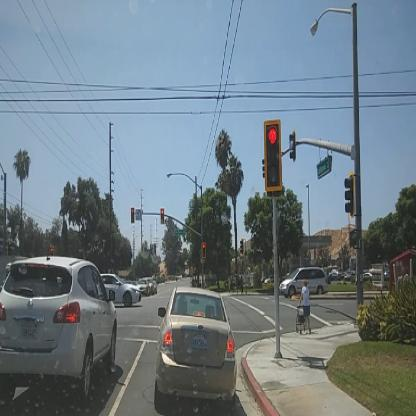red: (264, 123, 281, 190), (201, 241, 207, 260), (160, 208, 164, 225)
